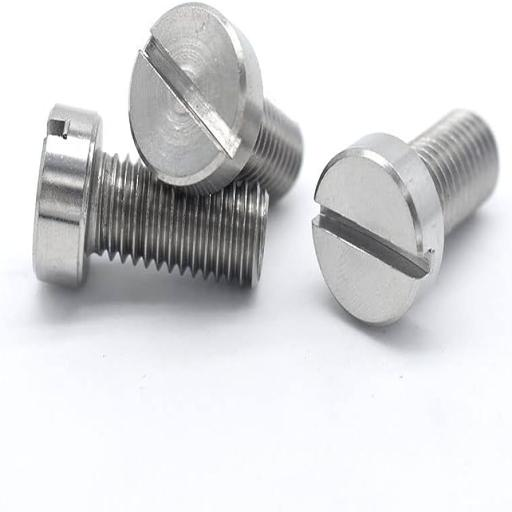Slotted: (310, 130, 443, 336), (129, 4, 260, 194)
